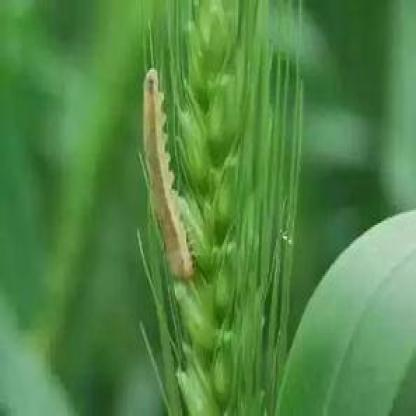sawfly: (141, 56, 198, 290)
